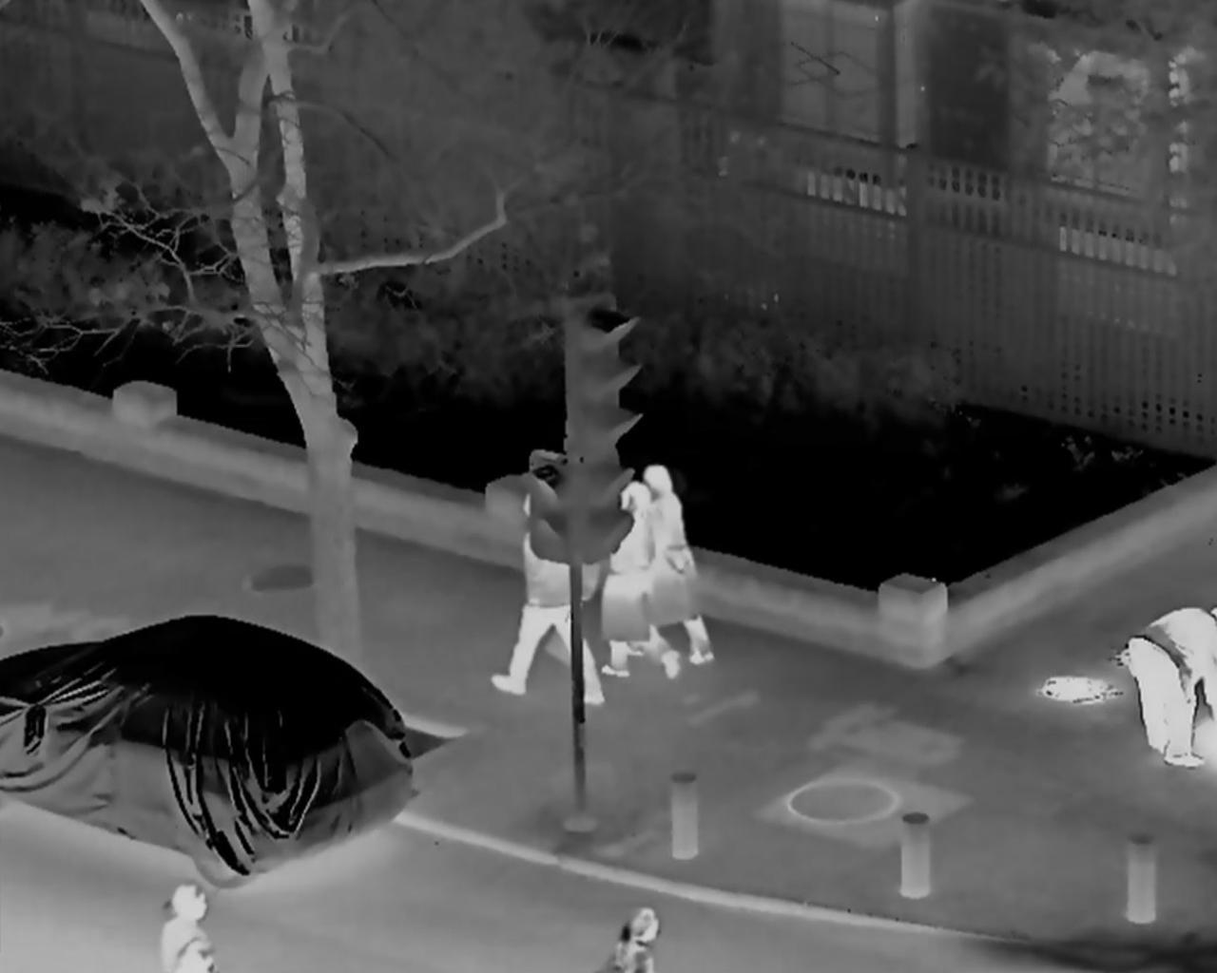person: (495, 495, 605, 712), (629, 467, 717, 666), (1127, 597, 1210, 773), (602, 485, 675, 677), (156, 883, 224, 973), (608, 905, 663, 973)
